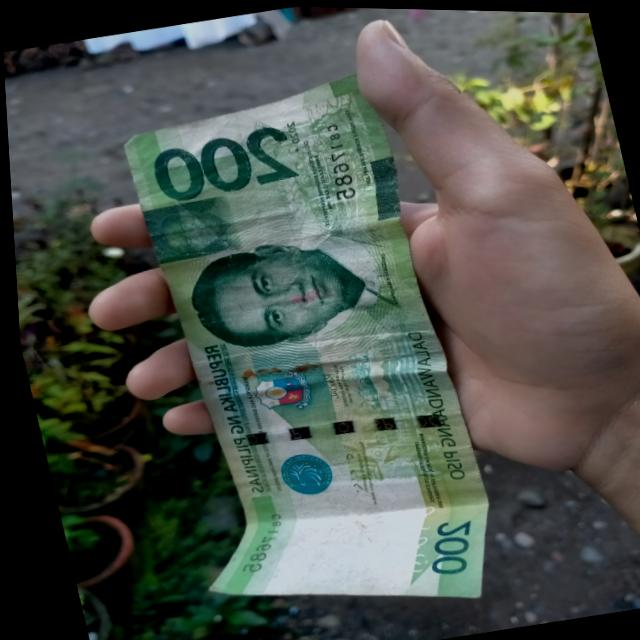concealed_value: (140, 192, 235, 264)
security_thread: (216, 397, 451, 459)
see_through_mark: (373, 493, 454, 586)
serial_number: (220, 498, 294, 583), (309, 113, 362, 207)
value: (142, 116, 305, 210)
